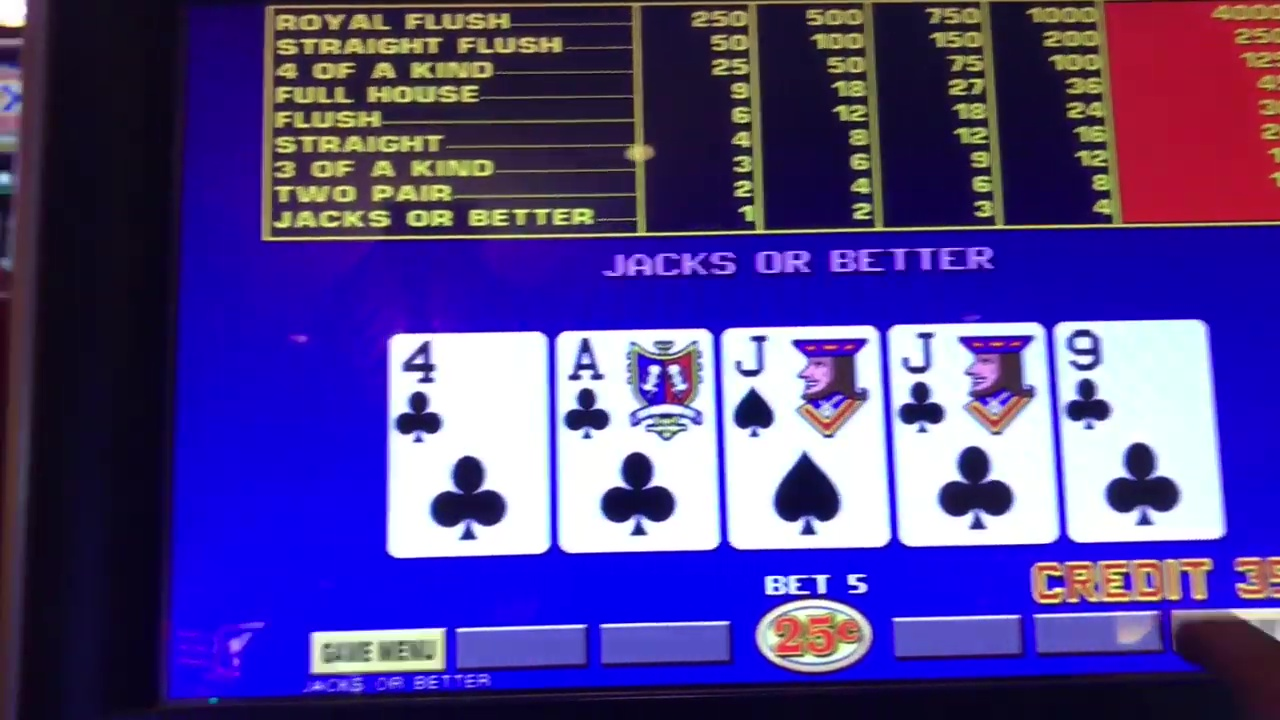C4: (400, 339, 539, 445)
C9: (1063, 323, 1211, 431)
CA: (559, 327, 714, 437)
CJ: (897, 323, 1038, 431)
SJ: (733, 328, 866, 435)
